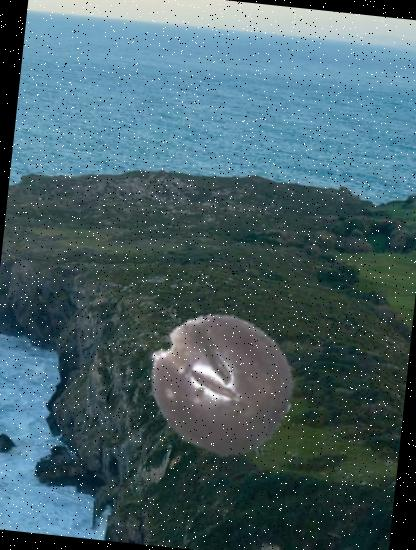Passion: (139, 302, 301, 464)
